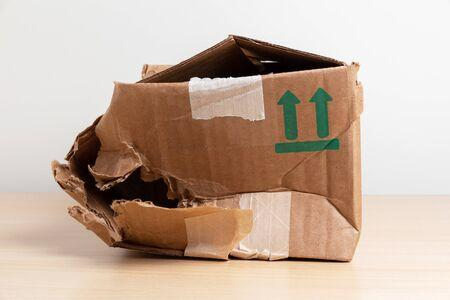plastic: (50, 32, 364, 261)
